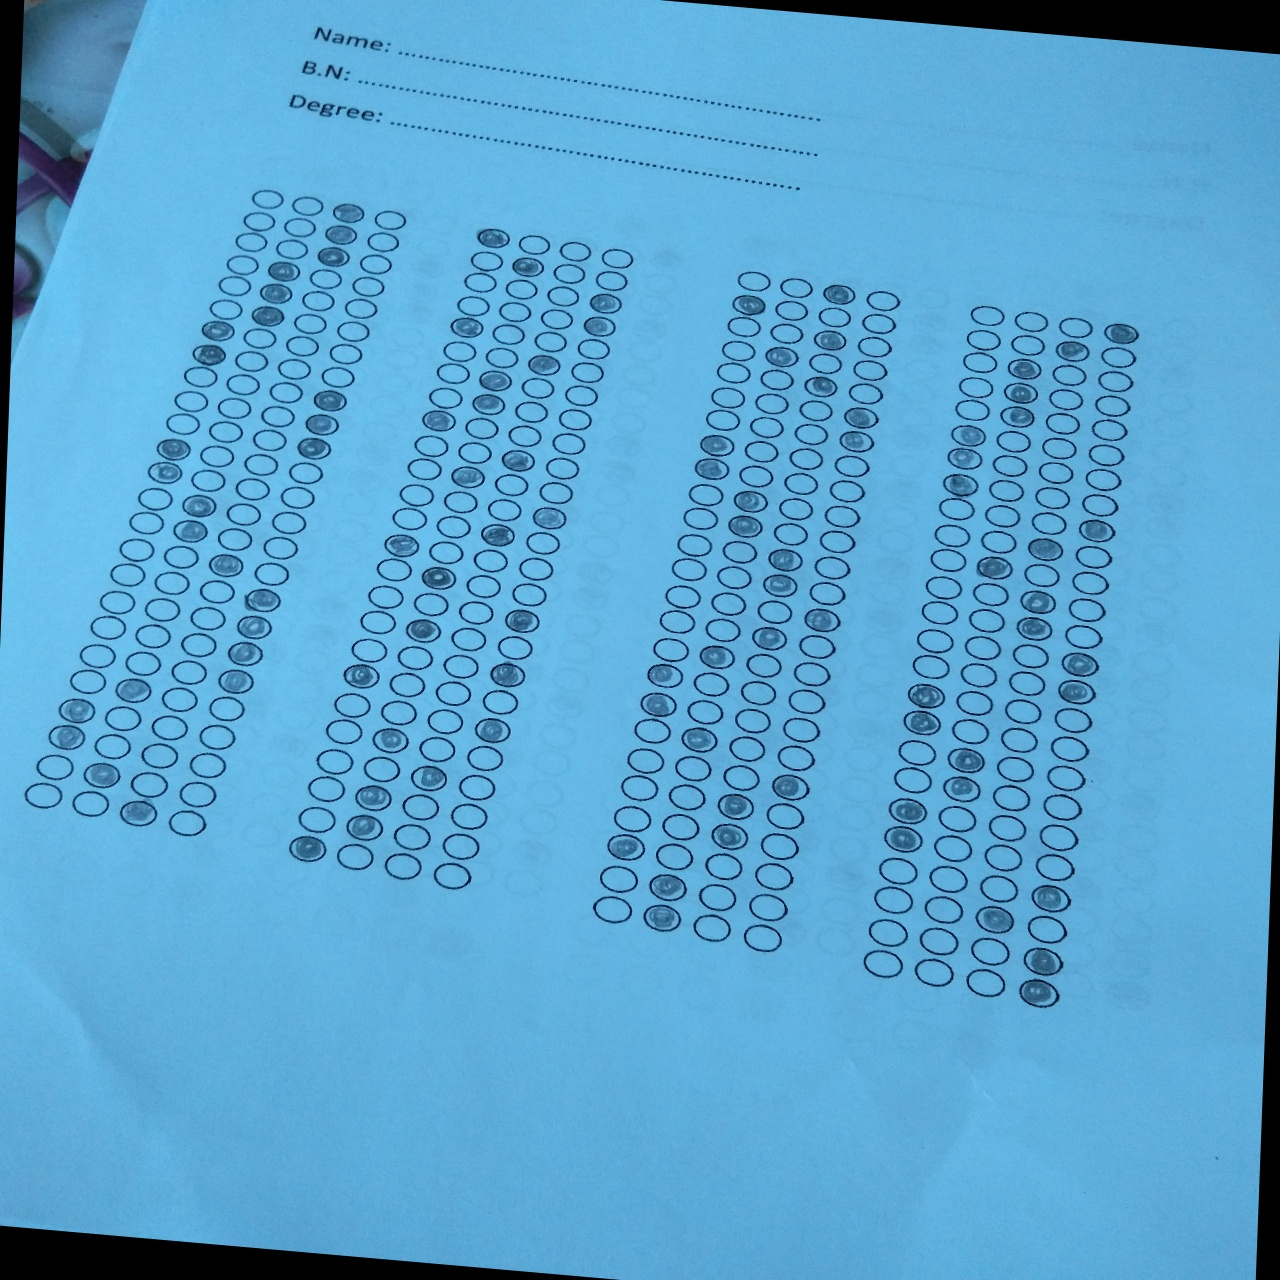not-c: (745, 890, 790, 924), (590, 893, 634, 926), (690, 911, 734, 944), (695, 881, 738, 914), (702, 849, 745, 881), (753, 860, 796, 893), (877, 855, 920, 887), (917, 925, 960, 958), (166, 806, 207, 840), (304, 774, 346, 806), (455, 772, 497, 805), (978, 872, 1020, 905), (927, 863, 969, 896), (873, 883, 915, 915), (1024, 913, 1067, 946), (740, 922, 783, 954), (912, 956, 955, 988), (765, 799, 805, 833), (295, 803, 336, 836), (390, 821, 431, 853), (331, 688, 372, 721), (377, 696, 418, 729), (424, 704, 465, 737), (479, 686, 520, 719), (613, 802, 654, 835), (775, 741, 816, 774), (781, 714, 822, 747), (654, 840, 695, 873), (867, 917, 908, 949), (862, 947, 903, 980), (922, 893, 964, 926), (965, 966, 1006, 999), (382, 850, 424, 881), (448, 801, 490, 832), (463, 743, 505, 775), (969, 935, 1012, 967), (334, 840, 374, 873), (660, 810, 700, 843), (599, 863, 639, 896), (70, 788, 111, 819), (23, 779, 64, 811), (441, 831, 482, 863), (399, 792, 440, 824), (360, 754, 401, 785), (314, 745, 355, 777), (324, 716, 365, 748), (433, 678, 474, 709), (449, 624, 490, 655), (493, 632, 535, 663), (425, 537, 467, 568), (619, 772, 660, 804), (758, 830, 799, 862), (731, 704, 772, 736), (685, 696, 726, 728), (1051, 704, 1092, 736), (990, 782, 1032, 813), (1039, 821, 1080, 852), (937, 803, 978, 835), (417, 734, 457, 765), (720, 761, 760, 792), (1050, 733, 1090, 764), (995, 753, 1035, 784), (128, 769, 169, 799), (34, 753, 75, 783), (433, 860, 474, 891), (358, 607, 399, 638), (374, 554, 415, 585), (954, 688, 995, 719), (1000, 724, 1041, 755), (949, 716, 990, 747), (892, 765, 933, 796), (982, 843, 1023, 873), (1034, 852, 1075, 883), (139, 741, 179, 771), (178, 779, 218, 810), (441, 652, 481, 682), (463, 571, 503, 601), (469, 545, 509, 576), (787, 686, 826, 716), (726, 734, 765, 764), (673, 753, 713, 783), (667, 782, 707, 812), (933, 832, 973, 863), (386, 670, 427, 700), (348, 635, 389, 665), (410, 588, 451, 618), (455, 598, 496, 627), (508, 580, 549, 610), (806, 579, 847, 608), (714, 563, 755, 592), (792, 659, 833, 688), (1003, 696, 1044, 726), (896, 737, 937, 767), (1041, 792, 1082, 822), (150, 713, 189, 743), (127, 509, 166, 538), (103, 703, 143, 733), (197, 723, 237, 753), (93, 731, 132, 761), (515, 553, 554, 583), (440, 488, 479, 517), (811, 553, 851, 583), (669, 554, 709, 584), (796, 632, 836, 661), (738, 678, 778, 707), (692, 670, 731, 700), (918, 598, 958, 627), (1046, 764, 1085, 794), (988, 812, 1028, 842), (188, 751, 229, 779), (365, 583, 406, 611), (816, 527, 857, 556), (719, 538, 760, 566), (701, 617, 742, 645), (651, 635, 692, 663), (268, 508, 307, 537), (252, 559, 291, 588), (162, 542, 200, 571), (134, 621, 172, 651), (159, 685, 198, 714), (433, 359, 471, 388), (744, 651, 783, 680), (932, 520, 971, 550), (1022, 561, 1061, 591), (964, 633, 1002, 662), (215, 394, 254, 422), (394, 644, 434, 672), (536, 479, 576, 508), (542, 454, 581, 482), (554, 406, 594, 434), (549, 259, 588, 287), (675, 531, 715, 559), (663, 583, 703, 611), (658, 608, 697, 636), (708, 590, 748, 618), (754, 597, 794, 625), (632, 717, 672, 745), (625, 745, 665, 774), (922, 574, 962, 602), (1073, 543, 1112, 571), (1067, 595, 1107, 624), (217, 525, 254, 554), (152, 568, 190, 598), (198, 576, 236, 605), (188, 604, 225, 633), (88, 612, 125, 641), (68, 667, 105, 696), (261, 533, 300, 561), (390, 505, 429, 533), (396, 482, 435, 510), (406, 455, 444, 483), (504, 421, 543, 449), (549, 430, 587, 458), (511, 397, 550, 425), (481, 343, 519, 372), (813, 302, 852, 331), (832, 452, 871, 481), (1099, 343, 1138, 372), (1040, 434, 1078, 462), (979, 527, 1017, 556), (928, 546, 967, 574), (1064, 622, 1103, 651), (968, 607, 1007, 635), (915, 627, 954, 655), (911, 653, 949, 681), (959, 661, 998, 689), (1012, 642, 1050, 670), (1008, 669, 1047, 697), (188, 467, 227, 493), (411, 433, 451, 459), (425, 384, 465, 411), (461, 268, 501, 295), (971, 581, 1010, 608), (225, 501, 263, 529), (136, 485, 173, 513), (117, 535, 155, 563), (143, 595, 181, 624), (97, 588, 135, 617), (170, 658, 207, 686), (124, 649, 162, 678), (79, 642, 116, 670), (207, 695, 245, 723), (485, 495, 523, 523), (463, 414, 501, 442), (108, 561, 147, 588), (490, 471, 529, 498), (455, 440, 493, 467), (440, 338, 478, 365), (543, 282, 581, 309), (502, 275, 540, 302), (591, 267, 629, 294), (598, 245, 636, 272), (734, 268, 772, 295), (864, 287, 903, 314), (771, 297, 810, 324), (768, 320, 806, 347), (787, 445, 825, 472), (680, 506, 719, 533), (769, 520, 808, 547), (1008, 331, 1047, 358), (960, 348, 999, 375), (994, 427, 1033, 454), (1083, 467, 1122, 493), (1070, 570, 1109, 597), (452, 293, 492, 319), (495, 299, 535, 325), (467, 248, 506, 274), (554, 238, 594, 264), (855, 334, 894, 360), (781, 470, 821, 496), (686, 482, 726, 508), (956, 374, 996, 400), (1046, 386, 1085, 411), (1092, 393, 1132, 418), (1080, 492, 1119, 518), (1085, 443, 1125, 469), (181, 631, 217, 659), (524, 529, 560, 557), (248, 425, 286, 452), (287, 459, 325, 486), (573, 335, 611, 362), (860, 311, 898, 338), (851, 358, 888, 384), (708, 384, 745, 411), (704, 406, 742, 433), (742, 438, 779, 465), (969, 302, 1007, 329), (1012, 308, 1049, 335), (1036, 459, 1074, 486), (164, 411, 203, 437), (278, 484, 316, 510), (517, 375, 556, 401), (561, 382, 600, 408), (531, 329, 570, 355), (488, 321, 526, 347), (515, 231, 553, 257), (724, 314, 763, 340), (719, 338, 757, 363), (714, 360, 753, 386), (756, 366, 795, 392), (806, 350, 845, 376), (796, 397, 835, 423), (747, 414, 785, 440), (826, 478, 865, 504), (823, 504, 862, 530), (952, 397, 990, 423), (1095, 368, 1133, 394), (1090, 417, 1129, 443), (990, 452, 1029, 478), (937, 495, 975, 520), (983, 503, 1022, 529), (1034, 485, 1073, 511), (273, 236, 309, 263), (358, 251, 394, 278), (435, 513, 471, 540), (847, 381, 884, 408), (259, 403, 297, 429), (172, 389, 210, 415), (206, 418, 244, 444), (241, 451, 279, 477), (198, 443, 236, 469), (567, 359, 605, 384), (537, 306, 574, 332), (776, 274, 813, 300), (753, 390, 790, 416), (791, 421, 829, 447), (776, 496, 813, 522), (1057, 314, 1095, 340), (966, 327, 1003, 353), (1043, 410, 1081, 436), (1050, 362, 1088, 388), (987, 478, 1024, 504), (292, 311, 327, 338), (248, 186, 285, 212), (372, 207, 408, 233), (327, 341, 363, 367), (275, 358, 312, 383), (306, 266, 342, 292), (224, 252, 260, 278), (234, 475, 271, 501), (737, 463, 774, 489), (1030, 510, 1067, 536), (241, 207, 275, 234), (290, 193, 325, 219), (365, 229, 400, 254), (281, 215, 316, 240), (350, 273, 386, 299), (343, 295, 379, 321), (284, 333, 319, 359), (300, 288, 335, 314), (207, 297, 243, 322), (183, 365, 218, 390), (268, 380, 304, 406), (216, 273, 252, 298), (225, 372, 261, 396), (234, 230, 268, 256), (335, 319, 370, 343), (320, 365, 355, 389), (241, 326, 277, 350), (233, 348, 268, 373)
taken-c: (1020, 944, 1065, 979), (973, 901, 1017, 937), (1017, 978, 1063, 1012), (1028, 881, 1074, 915), (881, 822, 927, 856), (884, 795, 930, 828), (897, 706, 942, 738), (903, 679, 948, 712), (939, 774, 985, 805), (1053, 675, 1099, 706), (942, 744, 988, 775), (946, 418, 989, 450), (646, 870, 687, 903), (45, 721, 87, 753), (80, 760, 122, 791), (352, 783, 394, 815), (339, 661, 381, 693), (486, 659, 529, 690), (401, 615, 443, 647), (973, 552, 1016, 583), (709, 821, 749, 853), (408, 762, 449, 794), (116, 798, 158, 829), (369, 726, 411, 756), (418, 565, 461, 595), (942, 443, 985, 474), (1075, 517, 1118, 546), (938, 471, 981, 501), (343, 812, 384, 843), (802, 605, 843, 635), (640, 903, 681, 933), (1024, 535, 1065, 565), (287, 833, 329, 863), (471, 717, 513, 747), (769, 772, 811, 802), (1016, 588, 1058, 618), (1003, 355, 1046, 384), (244, 585, 282, 617), (1012, 615, 1055, 644), (715, 791, 755, 822), (605, 832, 645, 863), (501, 607, 542, 636), (696, 641, 737, 670), (644, 662, 685, 692), (636, 689, 678, 719), (679, 726, 721, 754), (1058, 651, 1101, 679), (1101, 321, 1143, 349), (234, 613, 273, 644), (113, 675, 152, 704), (381, 532, 421, 561), (529, 504, 568, 533), (447, 462, 486, 491), (496, 445, 536, 475), (749, 625, 790, 653), (995, 403, 1036, 431), (1050, 338, 1092, 365), (215, 666, 253, 695), (57, 696, 96, 726), (524, 350, 563, 380), (447, 314, 485, 343), (1000, 379, 1041, 406), (227, 639, 265, 668), (479, 520, 518, 549), (418, 406, 457, 434), (475, 367, 513, 395), (801, 373, 839, 401), (761, 571, 798, 599), (304, 411, 342, 438), (469, 392, 508, 418), (699, 433, 737, 459), (692, 456, 730, 483), (726, 513, 764, 540), (295, 434, 332, 462), (812, 326, 849, 354), (321, 222, 359, 248), (265, 257, 302, 284), (257, 281, 294, 308), (248, 302, 286, 329), (147, 459, 184, 486), (179, 493, 217, 520), (580, 313, 618, 340), (587, 291, 625, 318), (511, 253, 549, 280), (474, 225, 511, 252), (819, 281, 857, 308), (730, 290, 768, 316), (762, 343, 799, 370), (843, 406, 880, 433), (837, 428, 874, 455), (765, 546, 803, 573), (155, 436, 193, 462), (171, 517, 207, 544), (207, 552, 244, 579), (730, 488, 767, 515), (314, 243, 352, 268), (309, 388, 347, 414), (329, 199, 366, 225), (198, 318, 234, 343), (191, 341, 227, 367)
